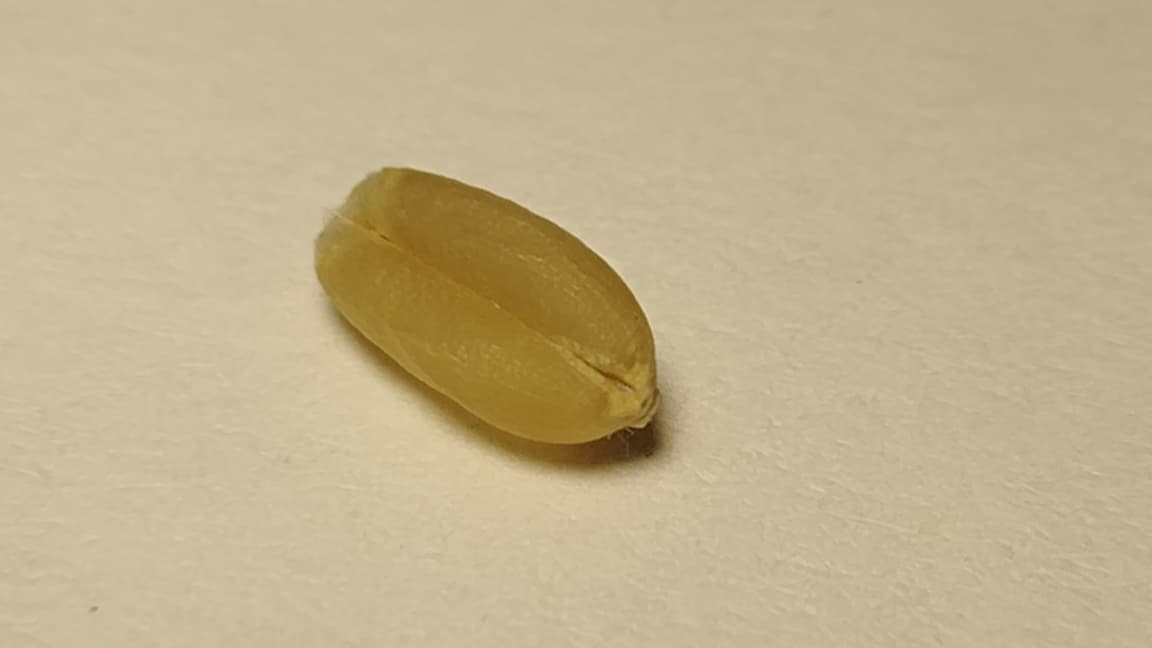healthy: (316, 167, 659, 443)
